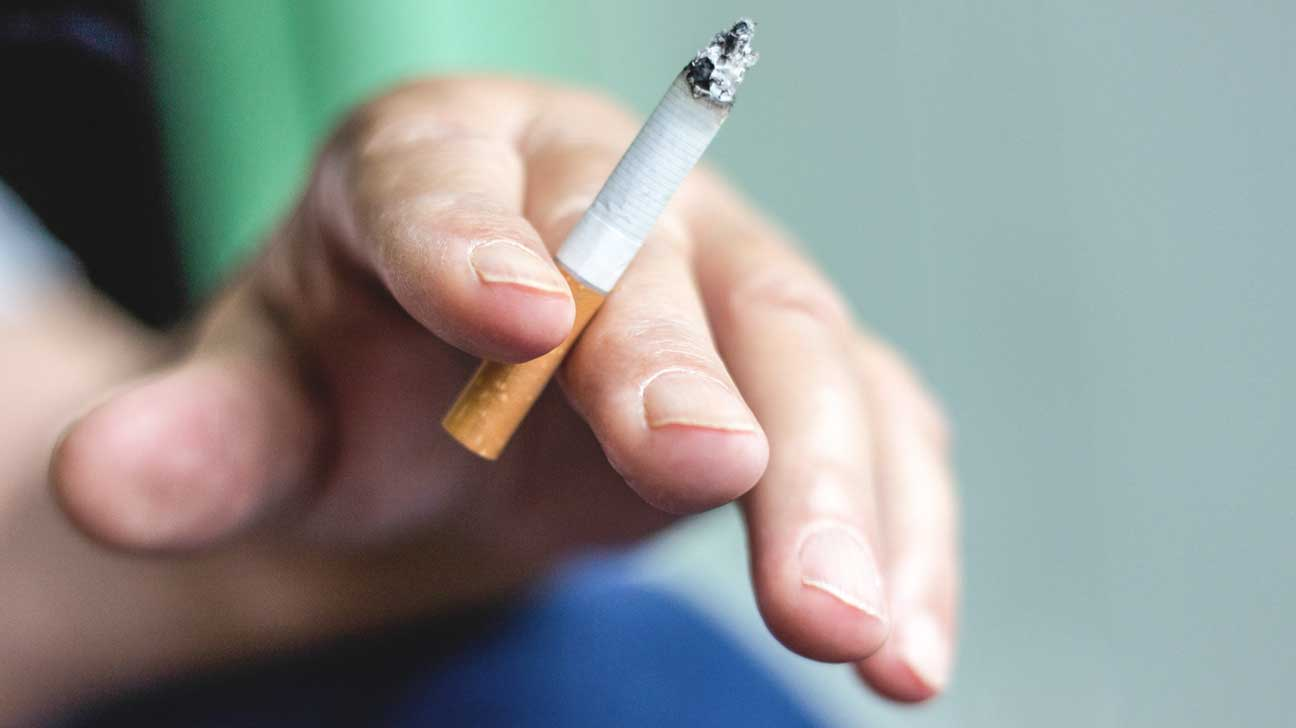cigarette: (429, 4, 767, 478)
